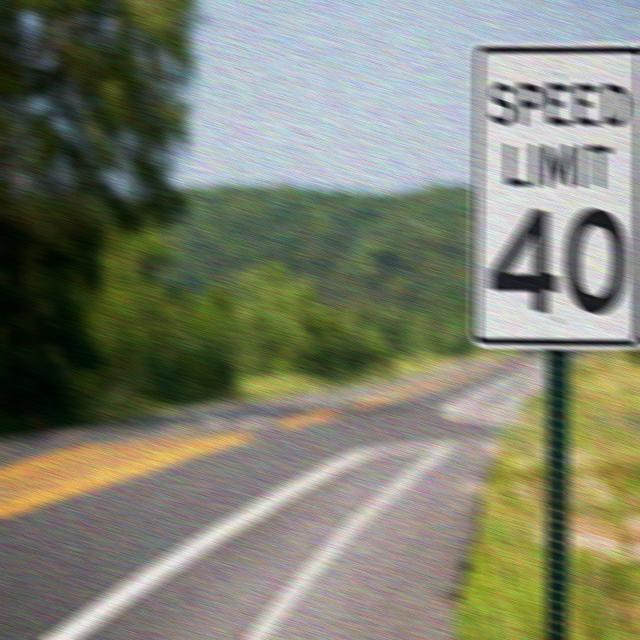speedLimit40: (467, 39, 640, 355)
